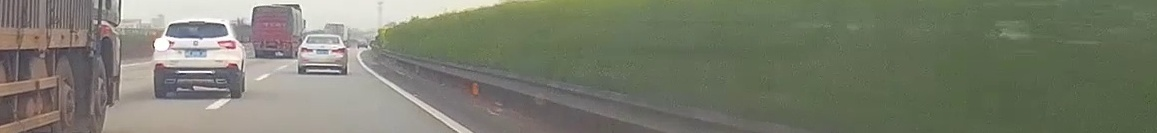L_light: (154, 39, 174, 50), (300, 47, 313, 53)
R_light: (217, 40, 238, 50), (331, 47, 345, 53)
T_light: (189, 21, 205, 24), (319, 36, 329, 39)
day-left: (153, 18, 241, 98)
day-no: (298, 34, 346, 75)
